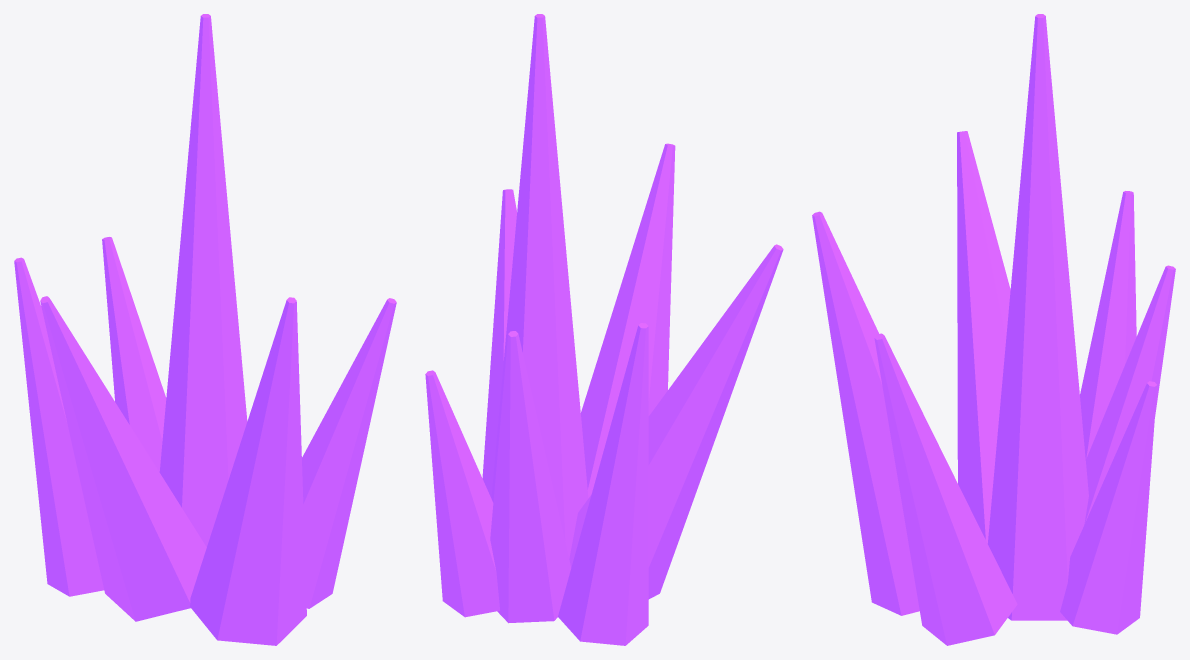
The model's file is VoidCrystals.glb.
The picture shows the model from 3 angles, left to right: view 1: azimuth 30°, elevation 25°; view 2: azimuth 150°, elevation 25°; view 3: azimuth 270°, elevation 25°; orthographic projection. The views are drawn at different scales.
Visible parts, largest first — view 1: VoidCrystals; view 2: VoidCrystals; view 3: VoidCrystals.
Part boxes in pixels (left/top/right/bottom): VoidCrystals: left=14, top=14, right=396, bottom=645; VoidCrystals: left=425, top=14, right=783, bottom=645; VoidCrystals: left=812, top=14, right=1175, bottom=645.
Bounding box in the file's own units: 2.86 × 4.94 × 2.75.
